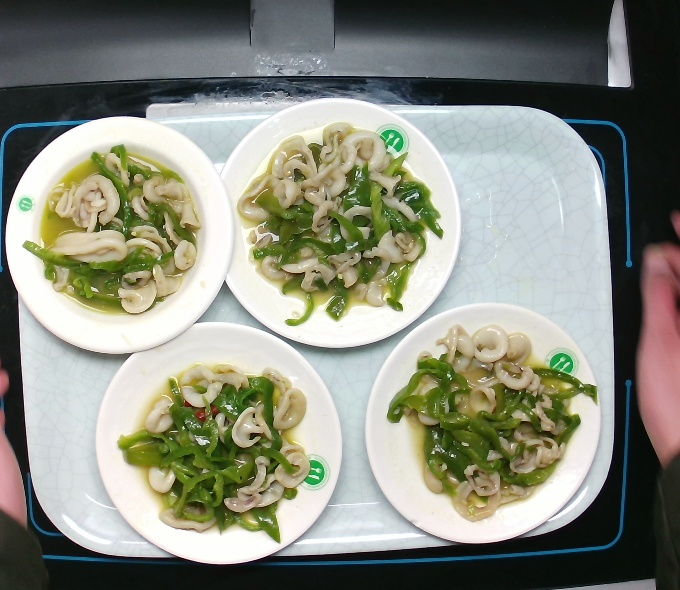wcq-QingJiaoYouYu: (231, 116, 452, 336), (377, 319, 611, 522), (115, 361, 320, 548), (25, 135, 201, 326)
